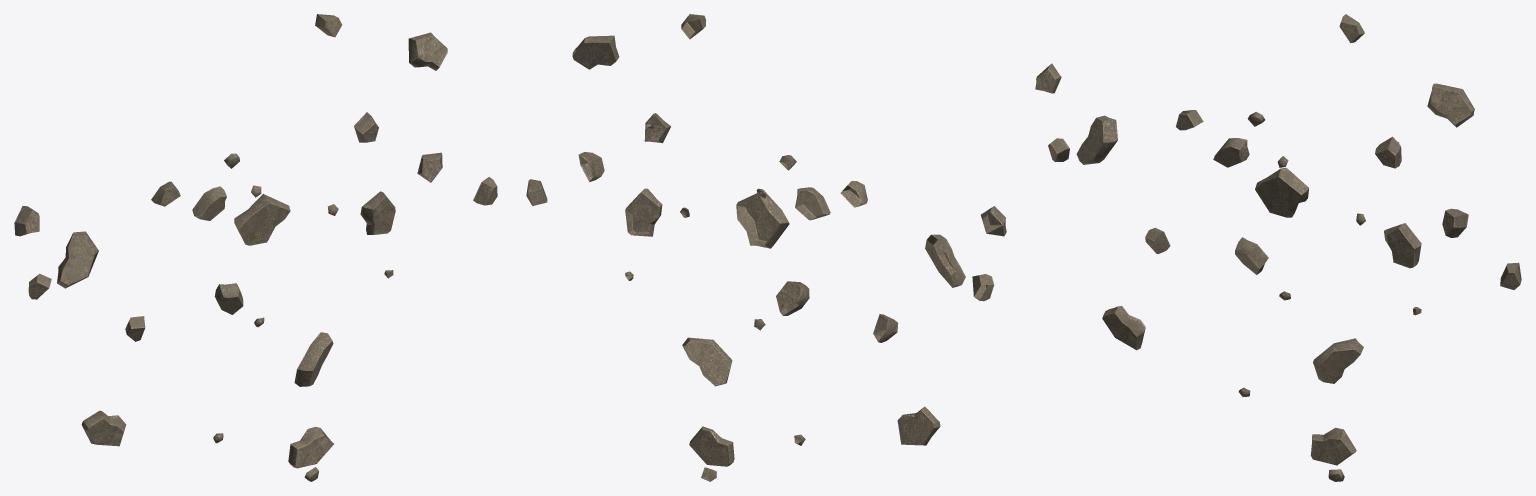
Rendered from hd_dec_Debris_Concrete.glb.
The picture shows the model from 3 angles, left to right: view 1: azimuth 30°, elevation 25°; view 2: azimuth 150°, elevation 25°; view 3: azimuth 330°, elevation 25°; orthographic projection.
Visible parts, largest first — view 1: set_0_group_0; view 2: set_0_group_0; view 3: set_0_group_0.
Boxes of the visible parts, left/top/right/bottom form: set_0_group_0: left=14, top=14, right=497, bottom=481; set_0_group_0: left=526, top=14, right=1006, bottom=481; set_0_group_0: left=1035, top=14, right=1521, bottom=481.
Bounding box in the file's own units: 3.13 × 2.89 × 0.1841.
1 material, 1 textured.
